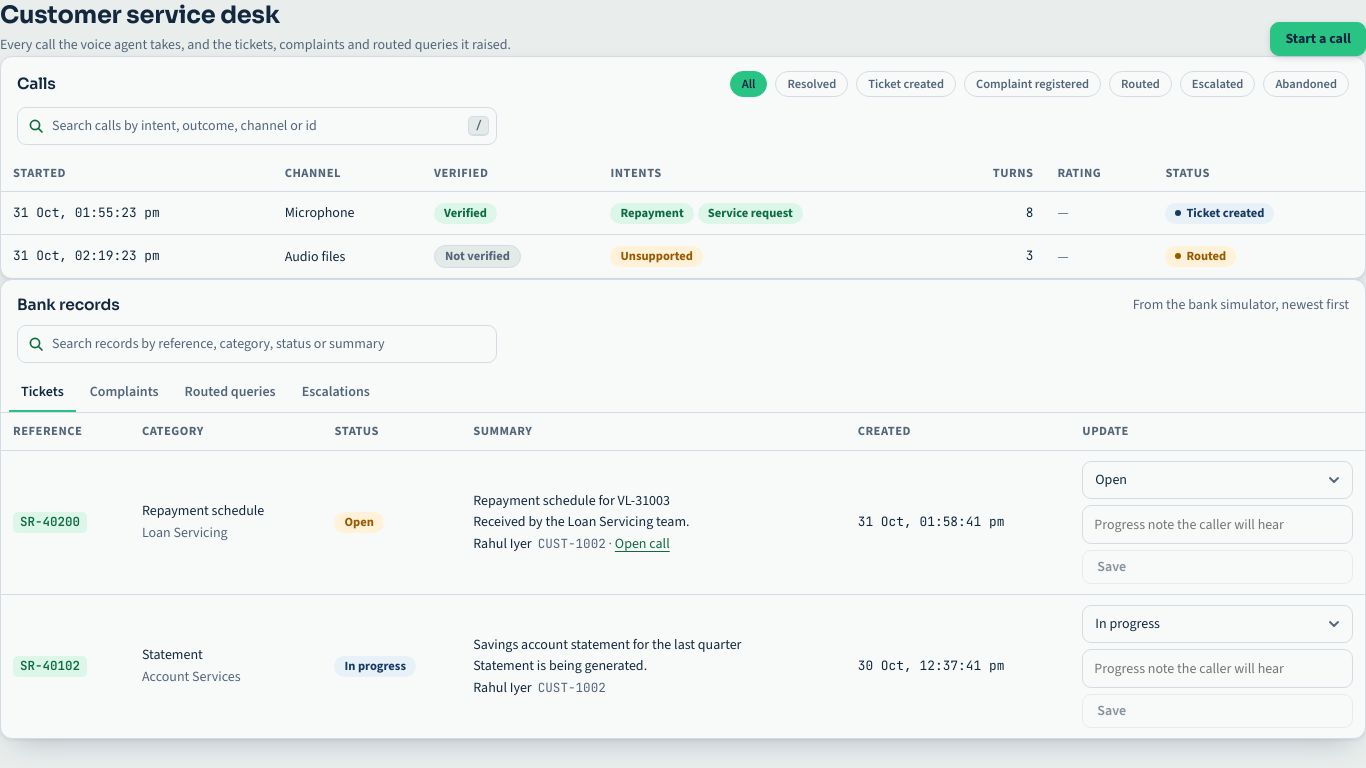
SupportDesk › keeps the row and the typed note when the simulator refuses the update
Expected: the text "SR-40200" is shown, top-left (13, 512), bottom-right (87, 533)
Click the button with aria-label "Status of SR-40200": (1111, 479) top-left (1082, 461), bottom-right (1353, 499)
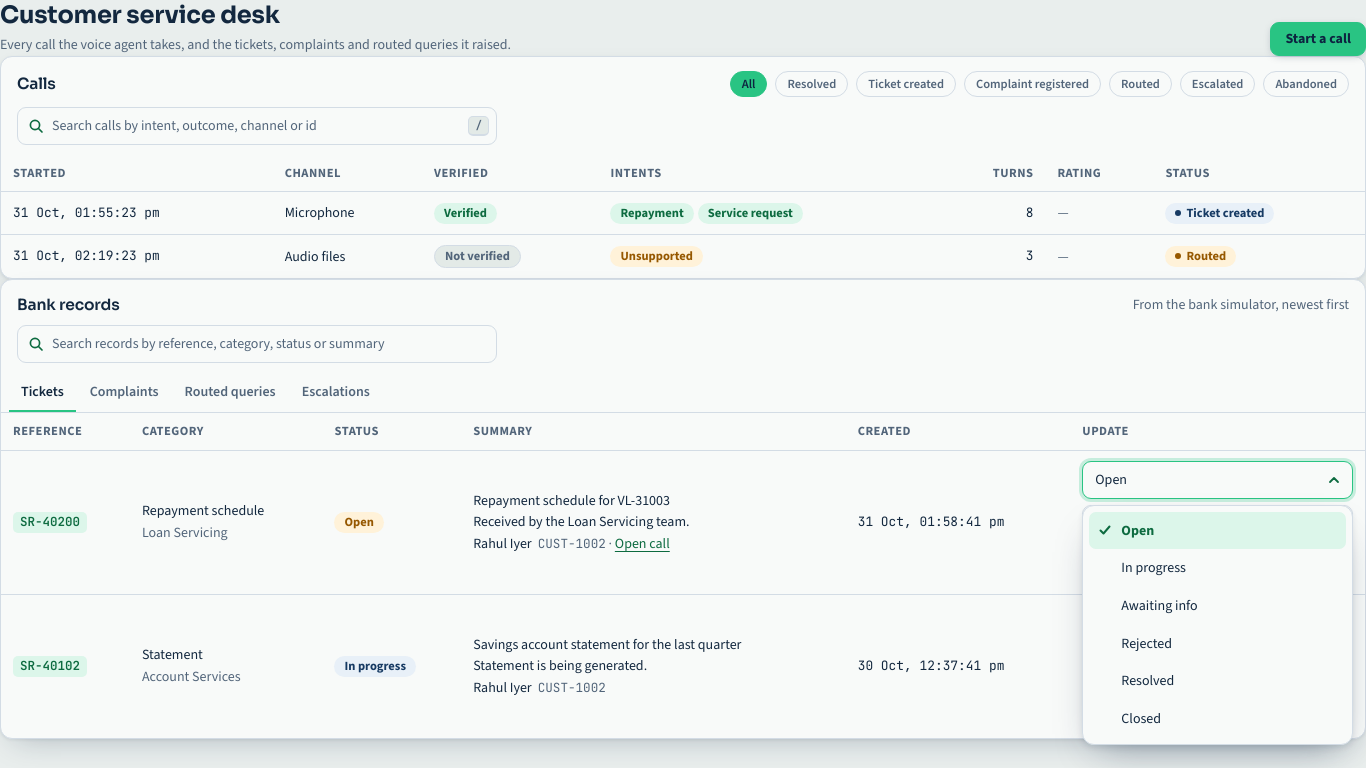
Click the option "Rejected": (1147, 643) top-left (1121, 634), bottom-right (1172, 653)
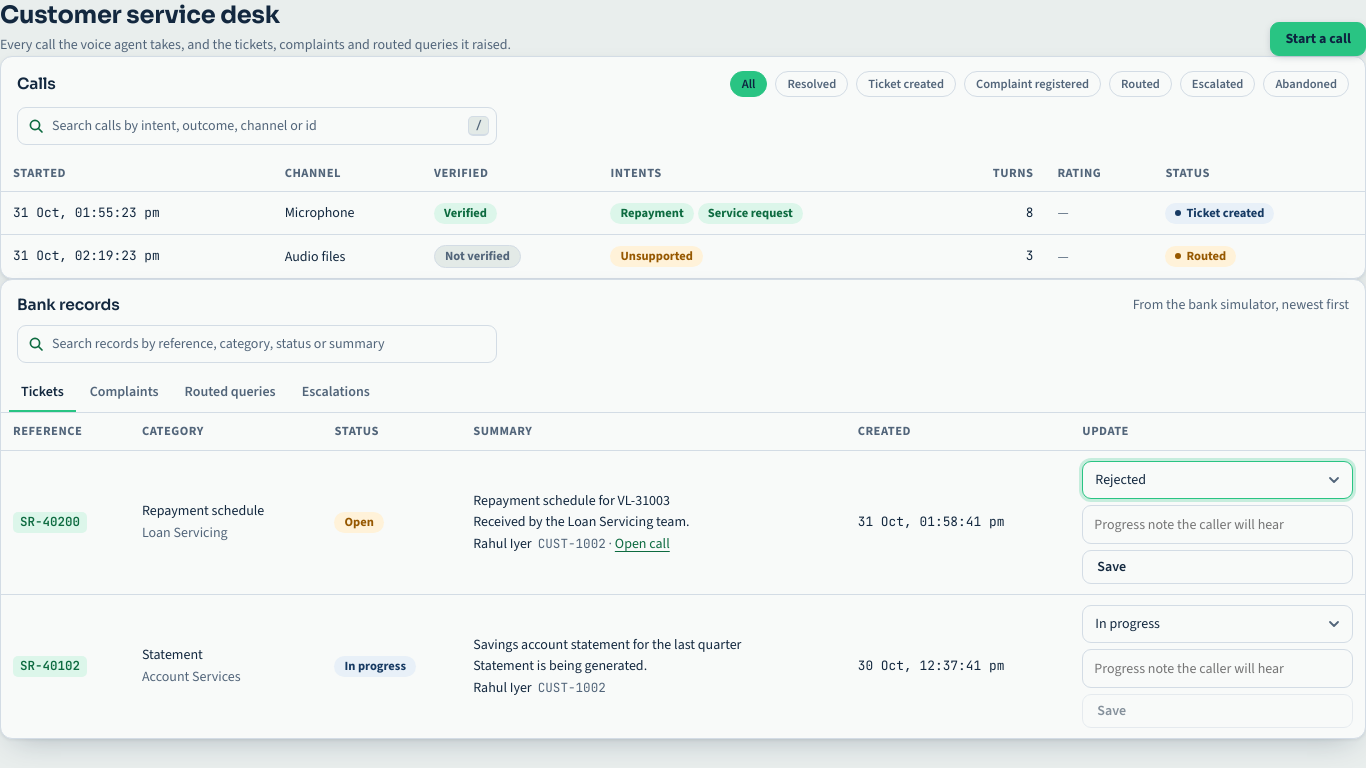
In the field named "Progress note for SR-40200": (1218, 524) top-left (1082, 505), bottom-right (1353, 544), type "Loan is closed."
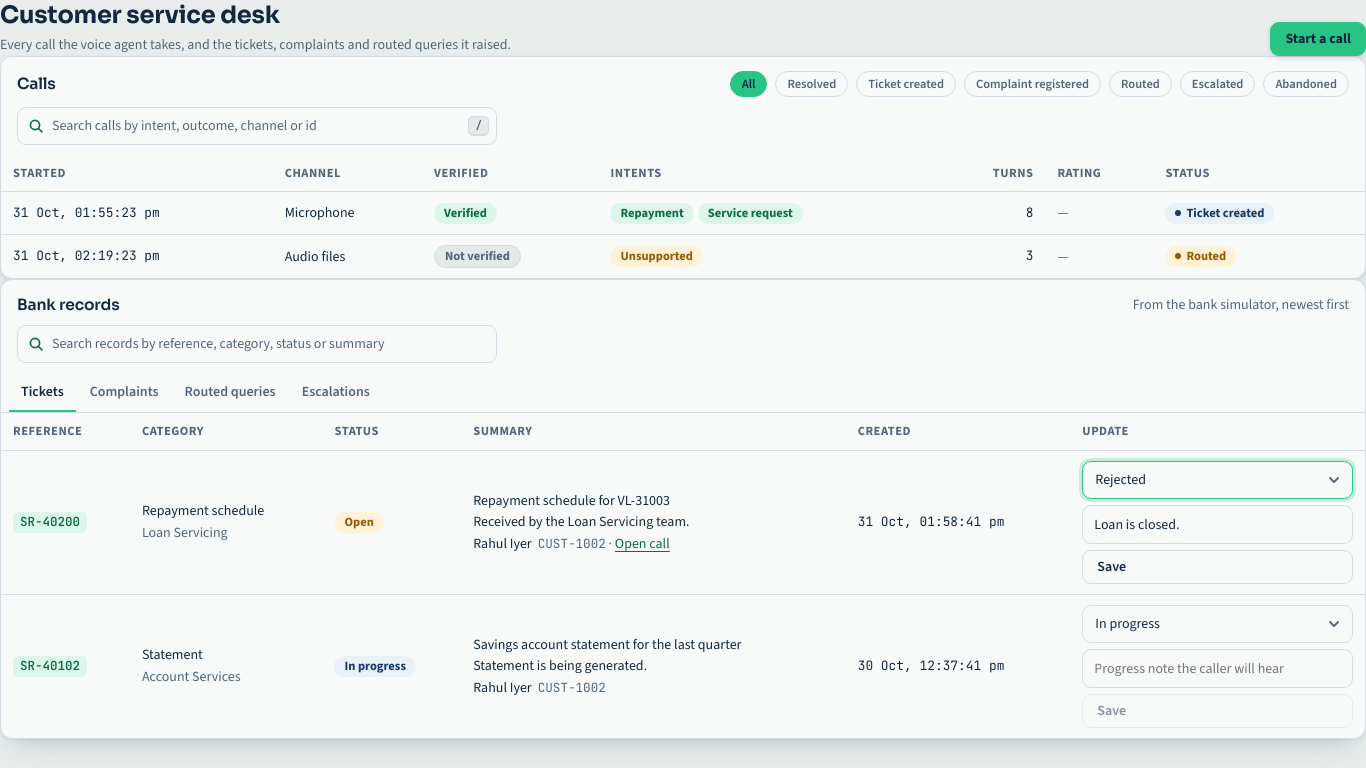
Click the button with aria-label "Save SR-40200": (1112, 567) top-left (1082, 550), bottom-right (1353, 584)
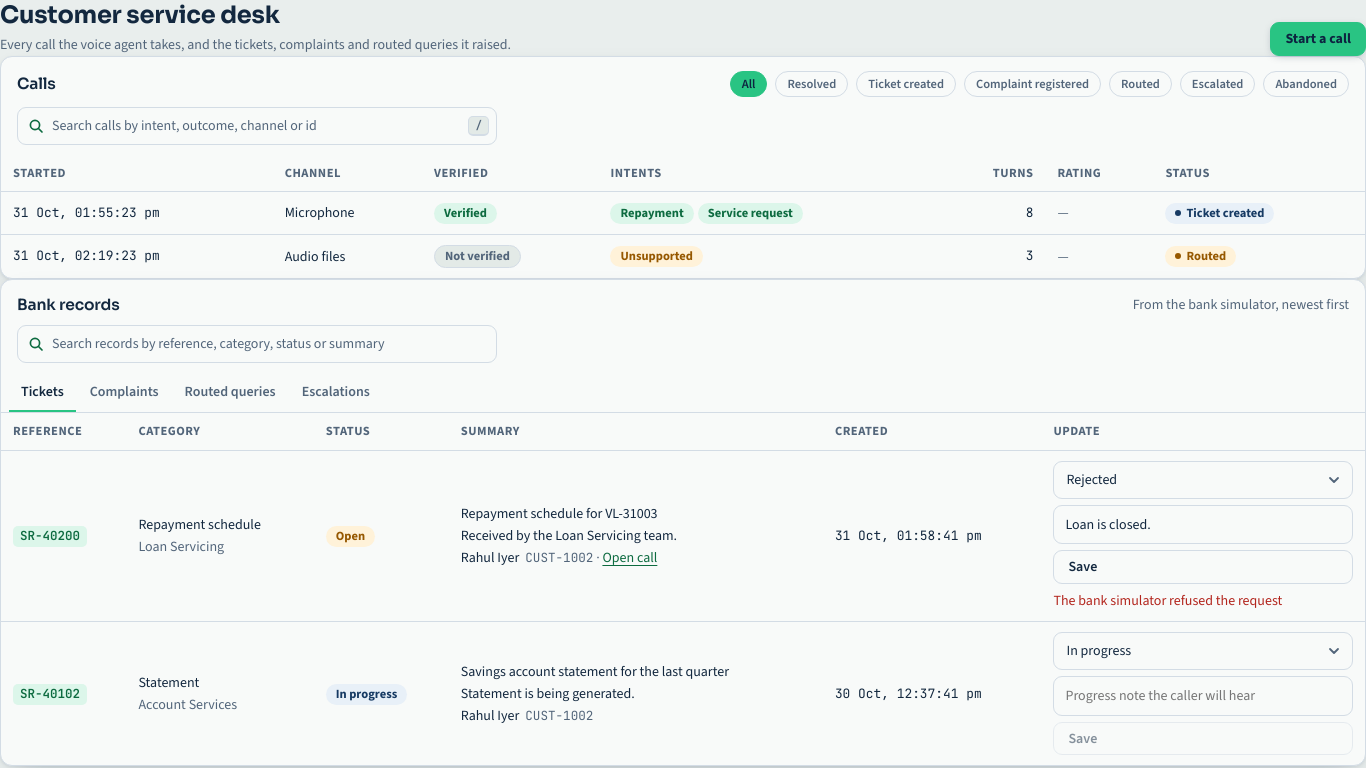
Expected: the text "Open" is shown, top-left (326, 526), bottom-right (375, 547)
Expected: the button with aria-label "Save SR-40200" is enabled, top-left (1054, 550), bottom-right (1353, 584)
Expected: the message reads "The bank simulator refused the request", top-left (1054, 591), bottom-right (1282, 610)
